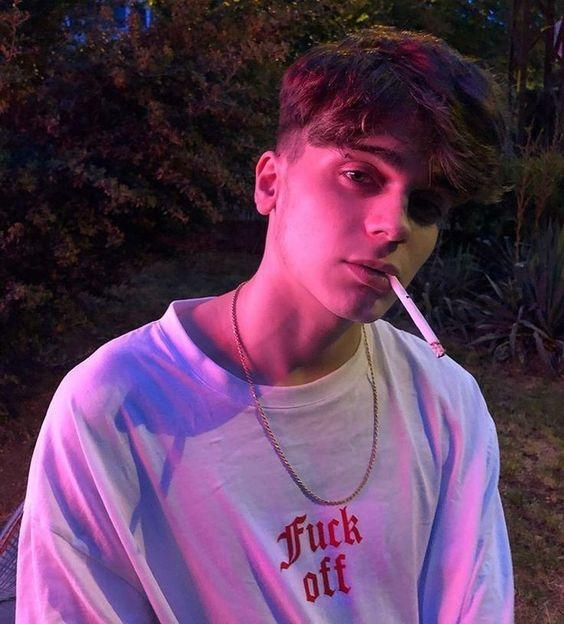cigarette: (389, 275, 445, 356)
